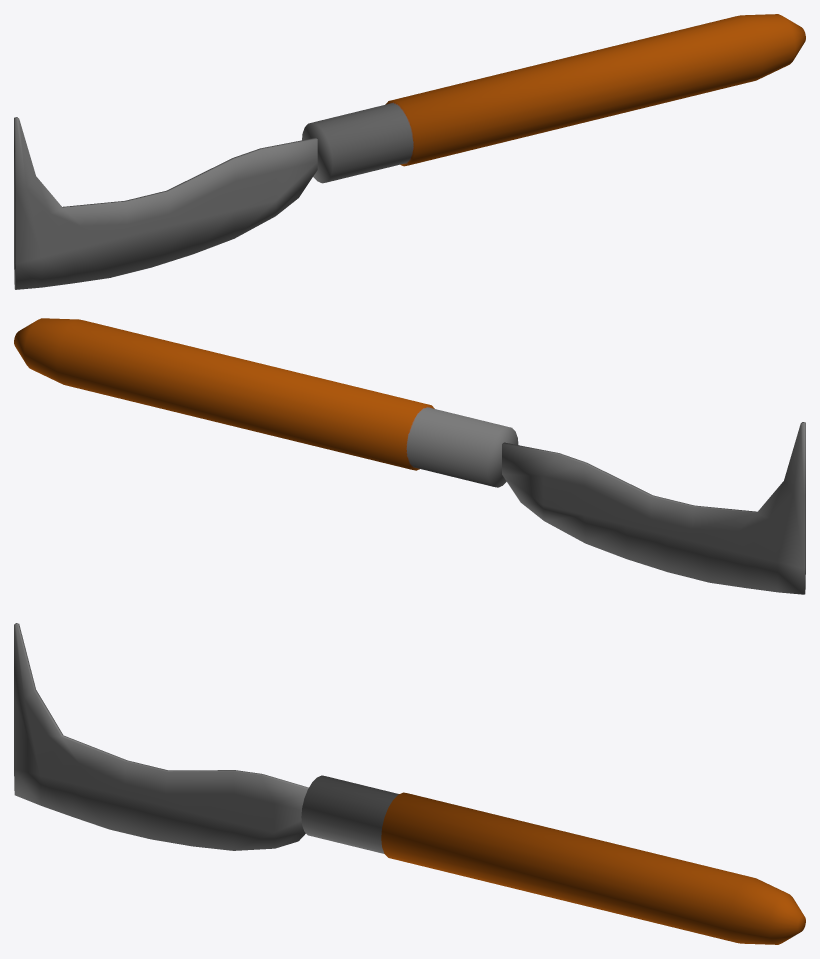
The model's file is Aliwa.glb.
The picture shows the model from 3 angles, top to bottom: view 1: azimuth 30°, elevation 25°; view 2: azimuth 150°, elevation 25°; view 3: azimuth 330°, elevation 25°; orthographic projection.
Visible parts, largest first — view 1: pCube7; view 2: pCube7; view 3: pCube7.
Part boxes in pixels (x1,y1,x2,y2): pCube7: (14, 14, 805, 289); pCube7: (14, 318, 805, 594); pCube7: (14, 623, 805, 944).
Size of the model in its own units: 5.35 by 1.18 by 0.4003.
Materials: 1 (1 with a texture image).
